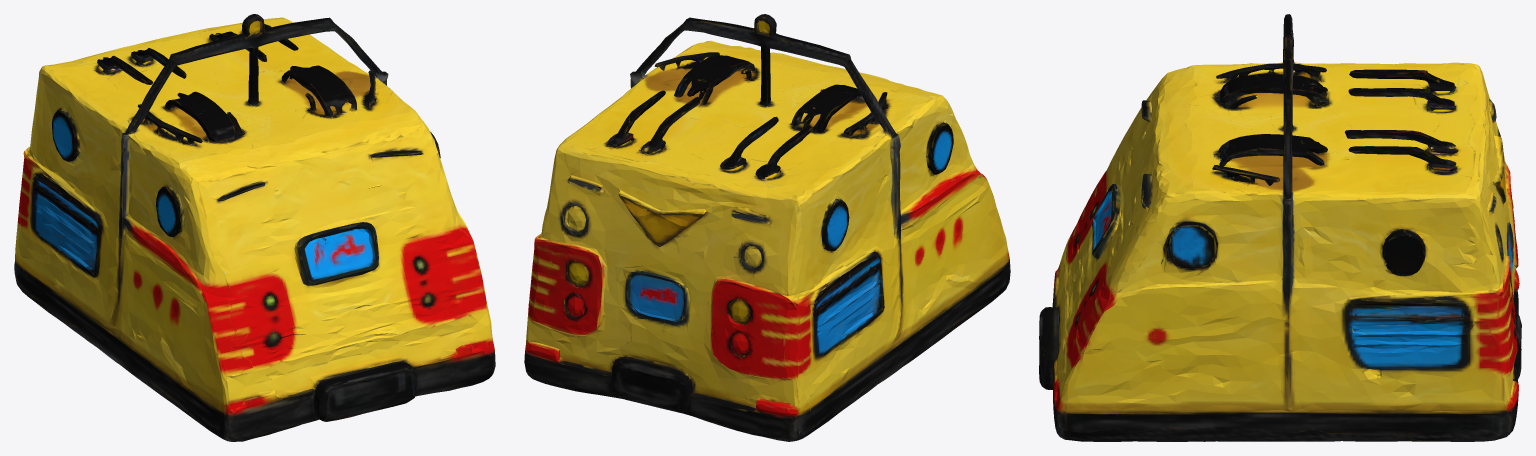
The model's file is AnimePistol_Textured_10402.glb.
3 renders of one model, left to right at view 1: azimuth 30°, elevation 25°; view 2: azimuth 150°, elevation 25°; view 3: azimuth 270°, elevation 25°, orthographic. The views are drawn at different scales.
Visible parts, largest first — view 1: world; view 2: world; view 3: world.
Part boxes in pixels (box(x1,y1,x2,y2)): world: box(14, 14, 495, 441); world: box(524, 14, 1010, 441); world: box(1039, 14, 1521, 441).
Size of the model in its own units: 0.6991 by 0.7761 by 1.
1 material, 1 textured.
